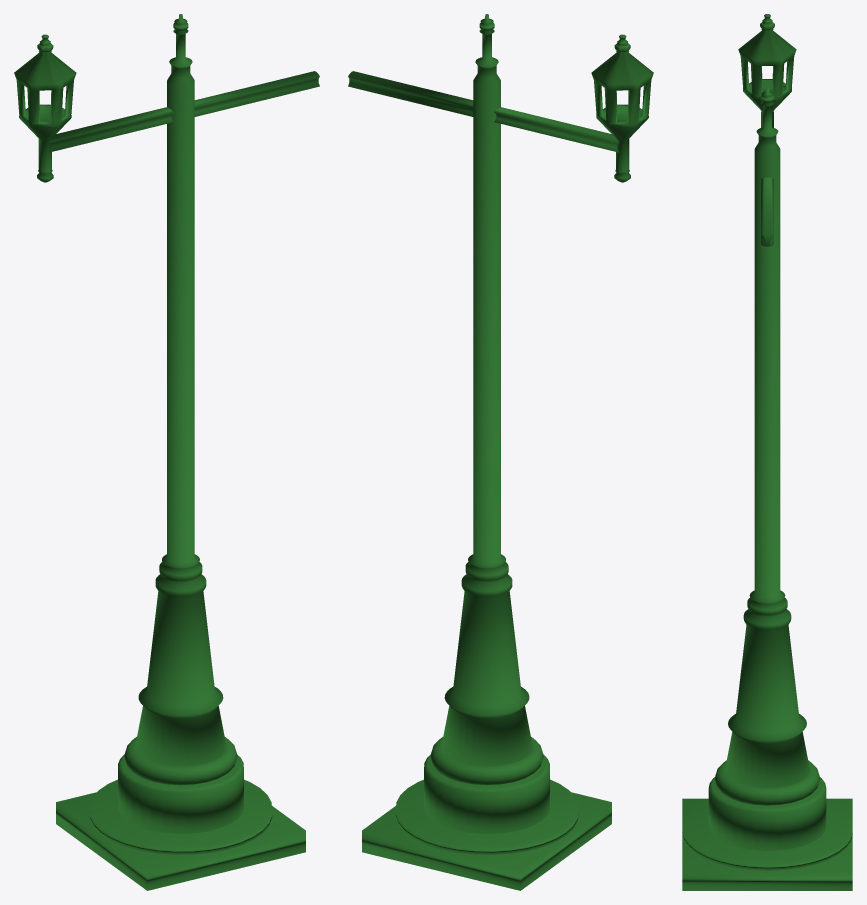
The model's file is lamp.gltf.
3 views of the same model, side by side, from view 1: azimuth 30°, elevation 25°; view 2: azimuth 150°, elevation 25°; view 3: azimuth 270°, elevation 25° (orthographic). The views are drawn at different scales.
Visible parts, largest first — view 1: Cube, Circle.001, Circle; view 2: Cube, Circle.001, Circle; view 3: Cube, Circle.001, Circle.
Part boxes in pixels (box(x1,y1,x2,y2)): Cube: box(56, 14, 305, 890); Circle.001: box(14, 34, 76, 182); Circle: box(48, 71, 319, 152); Cube: box(362, 14, 611, 890); Circle.001: box(591, 34, 653, 182); Circle: box(348, 71, 619, 152); Cube: box(682, 87, 852, 890); Circle.001: box(738, 14, 796, 112); Circle: box(761, 112, 773, 246).
Bounding box in the file's own units: 2.75 × 7.44 × 1.48.
